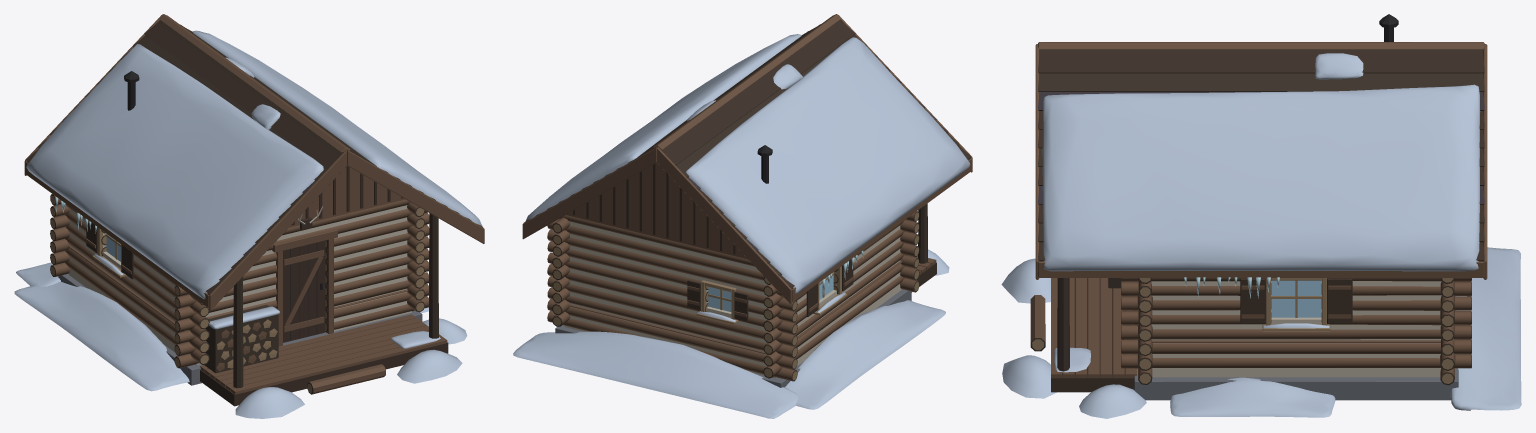
File: cabin_small.glb
3 views of the same model, side by side, from view 1: azimuth 30°, elevation 25°; view 2: azimuth 150°, elevation 25°; view 3: azimuth 270°, elevation 25° (orthographic). The views are drawn at different scales.
Parts seen in each view (by area): view 1: Roof, Floor0, Walls0_S, Walls0_W, Door_0, Walls0_S_Stub, Walls0_W_Stub, Walls0_N; view 2: Roof, Walls0_N, Floor0, Walls0_W, Walls0_N_Stub, Walls0_W_Stub, Walls0_S, Window_1; view 3: Roof, Floor0, Walls0_E, Walls0_E_Stub, Walls0_S, Walls0_N, Window_0, Walls0_S_Stub, Walls0_N_Stub.
Boxes of the visible parts, x1,y1,x2,y2 form: Roof: (24,14,484,310); Floor0: (14,213,467,418); Walls0_S: (174,199,429,366); Walls0_W: (65,204,189,352); Door_0: (283,240,325,342); Walls0_S_Stub: (174,284,428,368); Walls0_W_Stub: (65,245,187,350); Walls0_N: (50,194,69,276); Roof: (522,14,972,304); Walls0_N: (547,215,797,380); Floor0: (513,203,949,418); Walls0_W: (783,220,904,365); Walls0_N_Stub: (547,299,797,381); Walls0_W_Stub: (795,261,904,358); Walls0_S: (900,211,919,290); Window_1: (708,287,731,311); Roof: (1035,14,1487,298); Floor0: (1001,247,1521,418); Walls0_E: (1151,278,1441,377); Walls0_E_Stub: (1151,340,1441,377); Walls0_S: (1121,278,1152,384); Walls0_N: (1440,278,1471,385); Window_0: (1271,280,1321,317); Walls0_S_Stub: (1121,339,1152,384); Walls0_N_Stub: (1440,339,1471,384).
Size of what is drawn, in the model's own units: 6.7 by 5 by 8.15.
